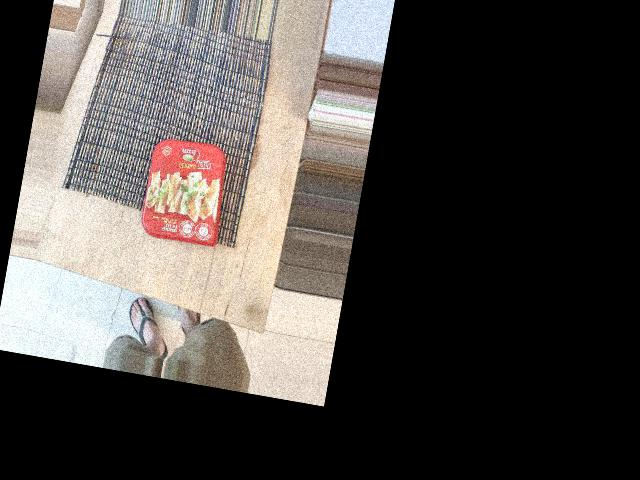cheese: (72, 96, 214, 206)
